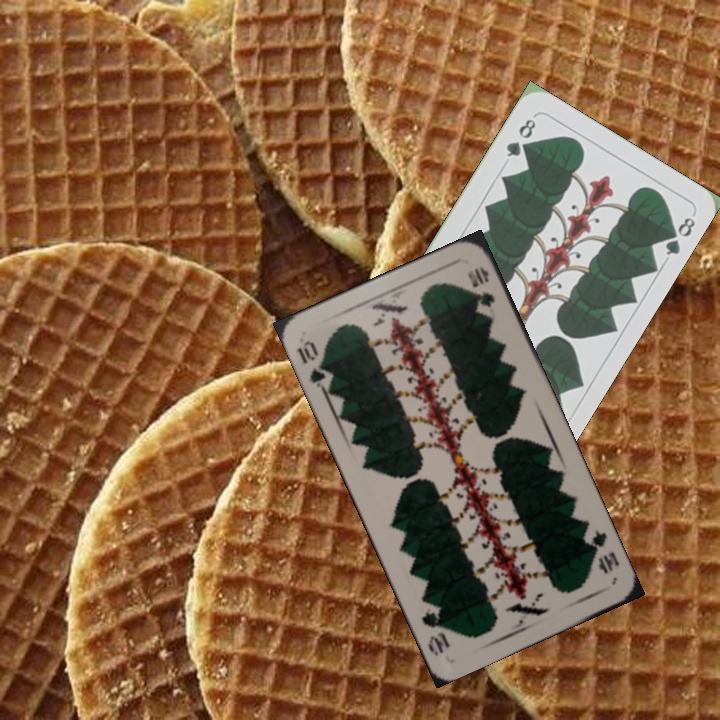G10: (293, 336, 336, 393), (583, 526, 622, 577)
G8: (502, 112, 539, 160)
